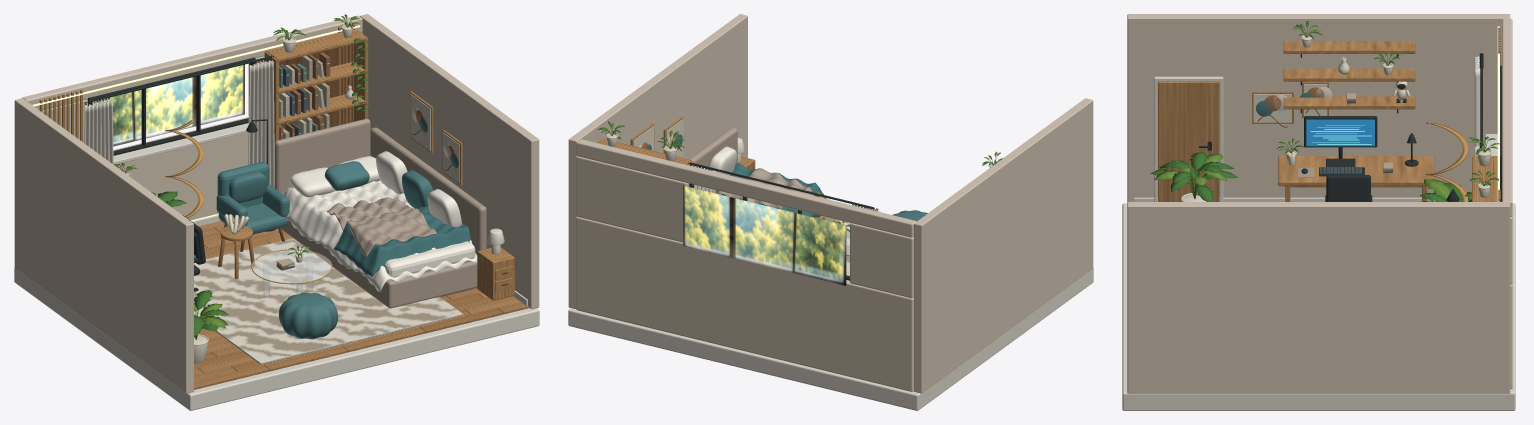
Rendered from 04_dream.glb.
3 views of the same model, side by side, from view 1: azimuth 30°, elevation 25°; view 2: azimuth 150°, elevation 25°; view 3: azimuth 270°, elevation 25° (orthographic). The views are drawn at different scales.
Parts seen in each view (by area): view 1: Left wall, Right wall, Patterned rug, Diorama foundation, Window garden backdrop, Rear wall below window, Rear wall above window, White duvet with modeled folds, Upholstered headboard, Bed structural base, Loose sand blanket, Teal throw with hanging edges (+36 smaller); view 2: Left wall, Rear wall below window, Right wall, Window garden backdrop, Diorama foundation, Rear wall right pier, Rear wall above window, Rear wall left pier, Loose sand blanket, Daybed upholstered wall back, Teal throw with hanging edges, Daybed side cushion (+2 smaller); view 3: Right wall, Left wall, Diorama foundation, Door leaf, Oak desk top, Rear wall above window, Monitor display, Wall-mounted oak shelf.001, Wall-mounted oak shelf, Wall-mounted oak shelf.002, Ergonomic chair back frame, Bookcase shelf.005 (+9 smaller).
Boxes of the visible parts, <box> form: Left wall: <box>14,98,193,393</box>; Right wall: <box>360,14,539,309</box>; Patterned rug: <box>194,238,462,364</box>; Diorama foundation: <box>14,268,539,410</box>; Window garden backdrop: <box>92,64,244,146</box>; Rear wall below window: <box>113,117,248,220</box>; Rear wall above window: <box>22,15,362,110</box>; White duvet with modeled folds: <box>284,180,477,291</box>; Upholstered headboard: <box>274,118,370,195</box>; Bed structural base: <box>281,220,477,308</box>; Loose sand blanket: <box>327,197,436,257</box>; Teal throw with hanging edges: <box>334,205,470,276</box>; Left wall: <box>914,98,1093,393</box>; Rear wall below window: <box>576,216,913,391</box>; Right wall: <box>568,14,747,308</box>; Window garden backdrop: <box>683,185,846,285</box>; Diorama foundation: <box>568,268,1093,410</box>; Rear wall right pier: <box>576,156,689,242</box>; Rear wall above window: <box>576,139,916,237</box>; Rear wall left pier: <box>850,223,913,298</box>; Loose sand blanket: <box>716,168,814,209</box>; Daybed upholstered wall back: <box>688,127,737,166</box>; Teal throw with hanging edges: <box>715,163,826,217</box>; Daybed side cushion: <box>708,146,736,175</box>; Right wall: <box>1127,202,1510,393</box>; Left wall: <box>1127,14,1510,202</box>; Diorama foundation: <box>1122,203,1515,410</box>; Door leaf: <box>1158,81,1219,201</box>; Oak desk top: <box>1278,156,1434,186</box>; Rear wall above window: <box>1502,18,1512,216</box>; Monitor display: <box>1306,119,1374,146</box>; Wall-mounted oak shelf.001: <box>1283,68,1415,81</box>; Wall-mounted oak shelf: <box>1283,96,1415,109</box>; Wall-mounted oak shelf.002: <box>1283,41,1415,53</box>; Ergonomic chair back frame: <box>1326,175,1370,201</box>; Bookcase shelf.005: <box>1472,156,1497,201</box>.
Bounding box in the file's own units: 6.72 × 3.67 × 5.86.
Materials: 34 (9 with a texture image).
